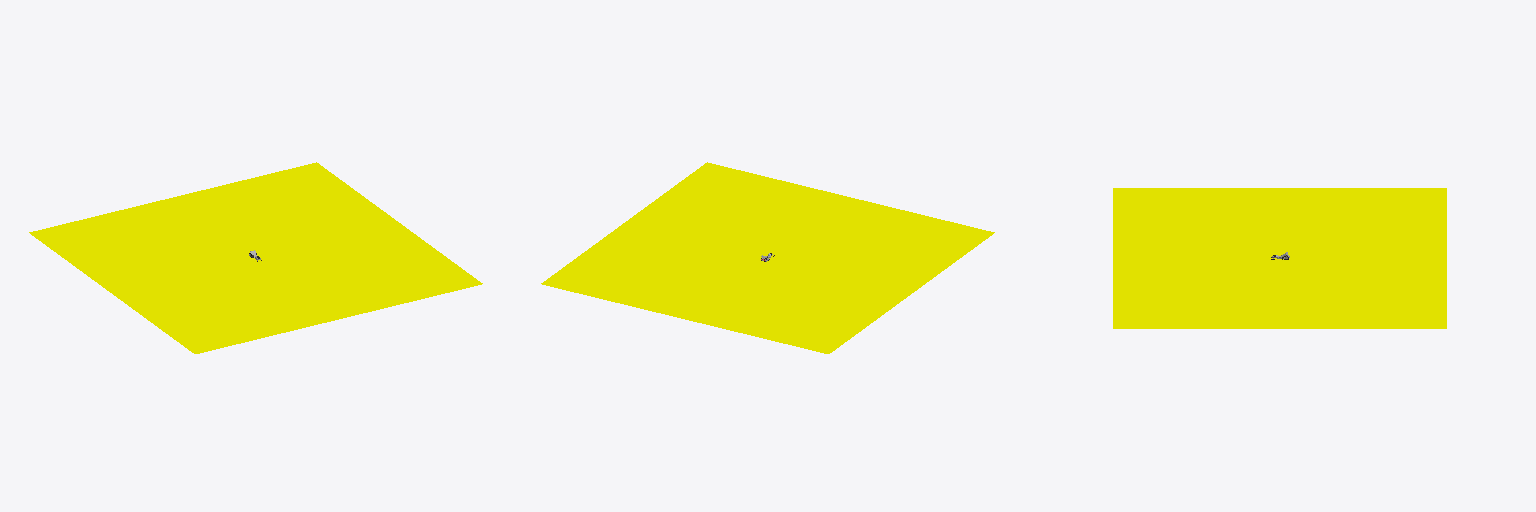
File: snowmobile Tank.obj
The picture shows the model from 3 angles: view 1: azimuth 30°, elevation 25°; view 2: azimuth 150°, elevation 25°; view 3: azimuth 270°, elevation 25°; orthographic projection.
Visible parts, largest first — view 1: 6 Mod Tool.2007.0814; view 2: 6 Mod Tool.2007.0814; view 3: 6 Mod Tool.2007.0814.
Boxes of the visible parts, x1=… form: 6 Mod Tool.2007.0814: x1=29, y1=162, x2=482, y2=353; 6 Mod Tool.2007.0814: x1=541, y1=162, x2=994, y2=353; 6 Mod Tool.2007.0814: x1=1113, y1=188, x2=1446, y2=328.
Size of the model in its own units: 500 by 8.33 by 500.